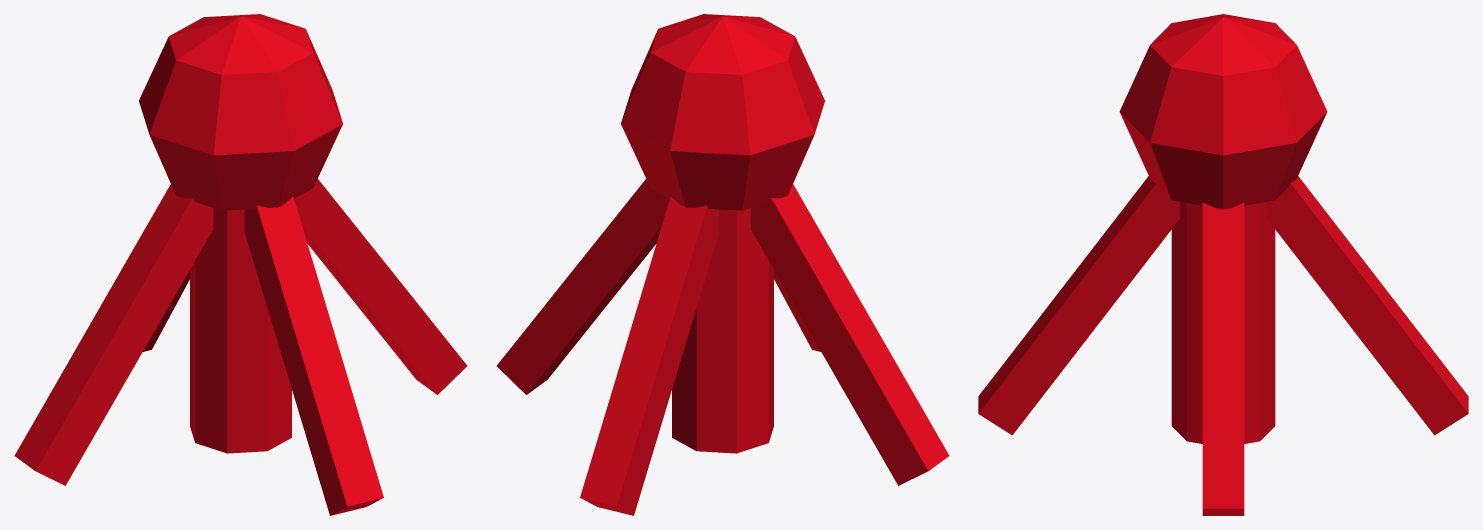
File: wooden_stake.glb
3 views of the same model, side by side, from view 1: azimuth 30°, elevation 25°; view 2: azimuth 150°, elevation 25°; view 3: azimuth 270°, elevation 25° (orthographic).
Parts seen in each view (by area): view 1: Sphere; view 2: Sphere; view 3: Sphere.
Part boxes in pixels (left/top/right/bottom): Sphere: left=14, top=14, right=467, bottom=515; Sphere: left=496, top=14, right=949, bottom=515; Sphere: left=978, top=14, right=1468, bottom=515.
Bounding box in the file's own units: 1.98 × 1.82 × 1.98.
